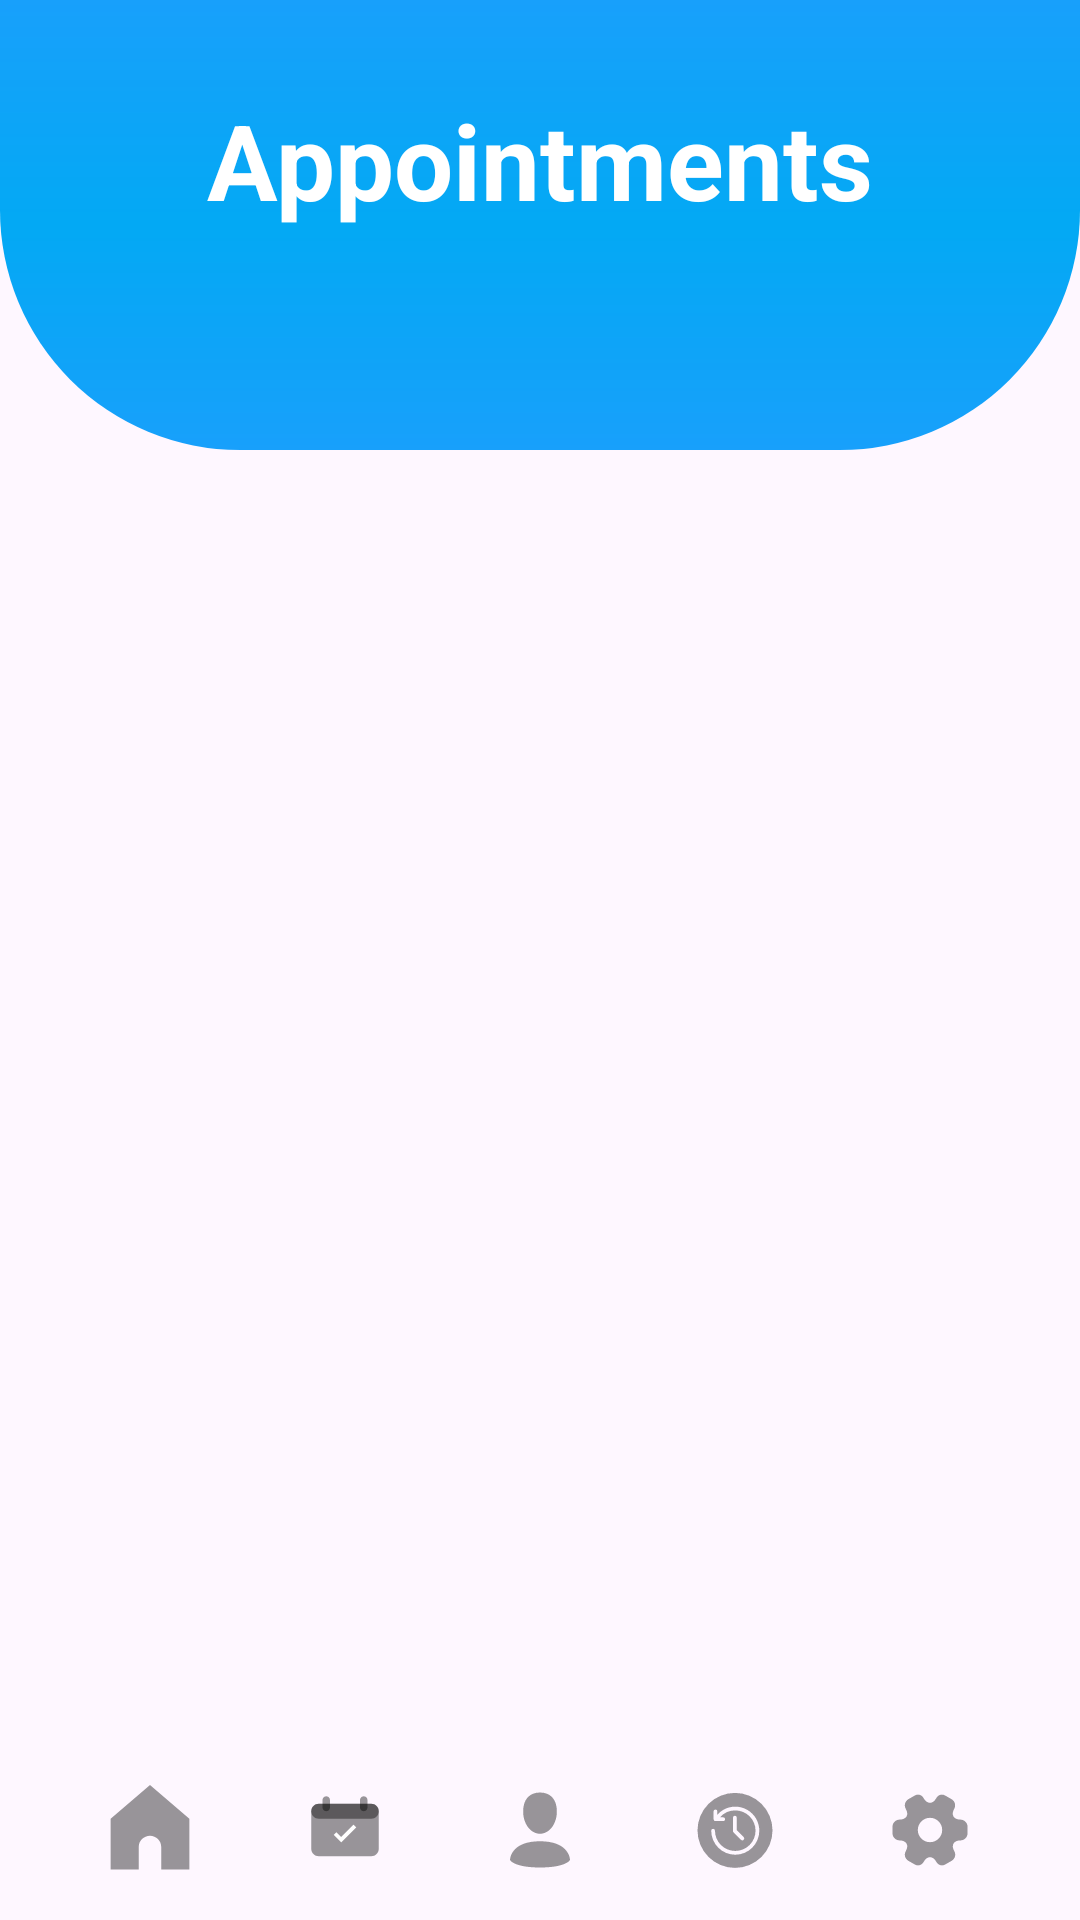

Named icons in this screenshot (1080w x 1920h) and their centers, (x,y):
appointment: (345,1826)
history round: (735,1830)
home: (150,1827)
profile: (540,1830)
setting: (930,1830)
